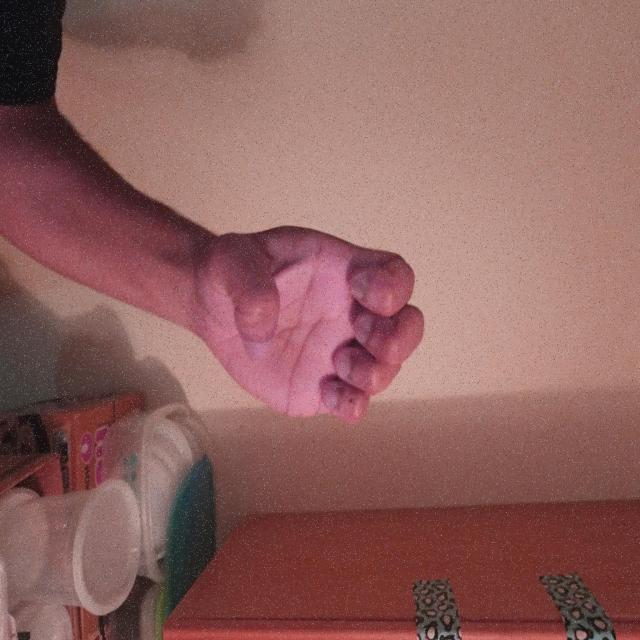E: (324, 270, 482, 595)
